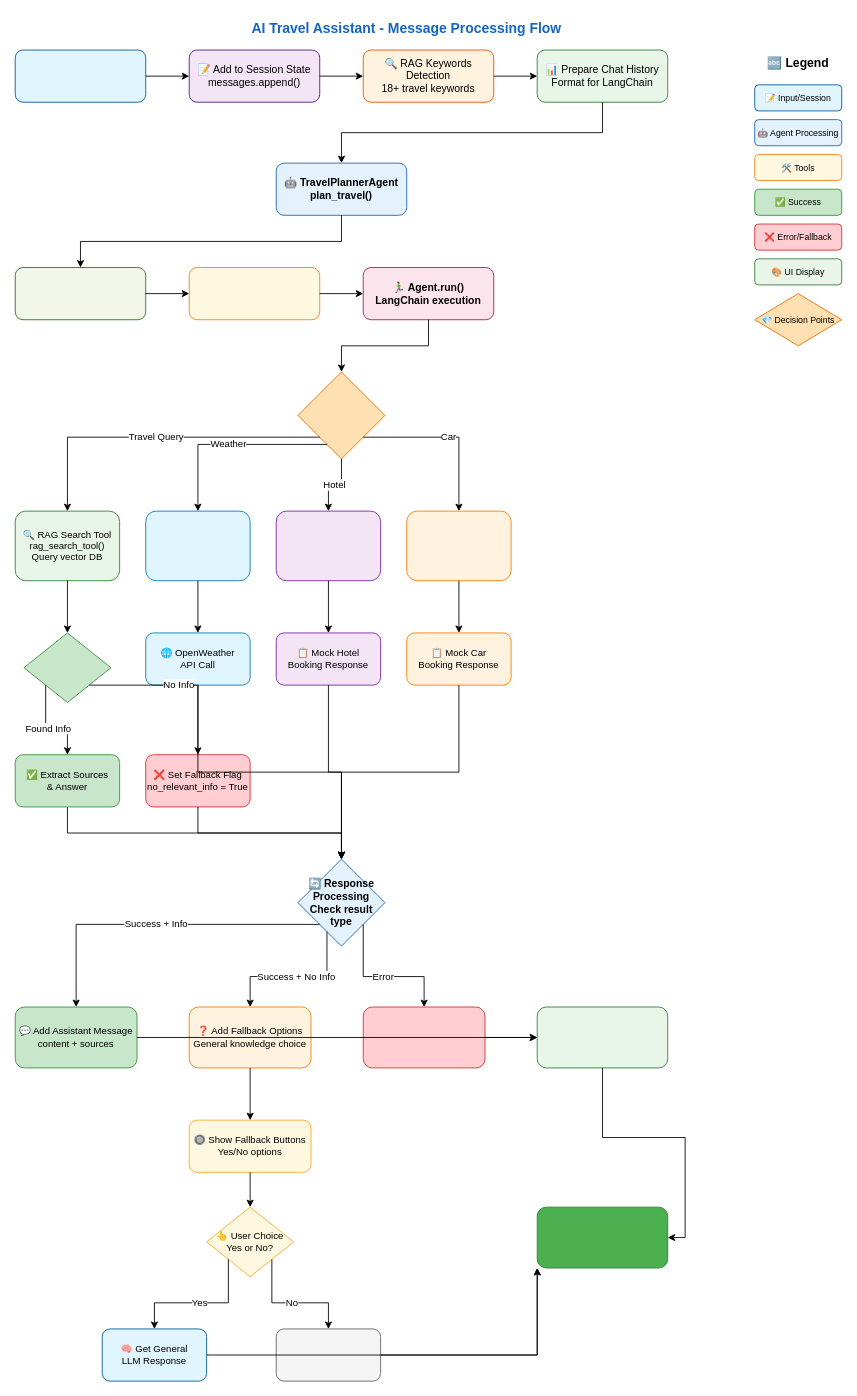
The diagram is 857 pixels wide and 1396 high, and some of its shapes have lost their labels. Each missing label, with the centre of its shape:
"✋ Skip to Next Question" belongs at point 328,1354.
"❌ Add Error Message Show error details" belongs at point 423,1037.
"🌤️ Weather Tool weather_tool() OpenWeatherMap API" belongs at point 197,545.
"🎨 Display in Chat UI Render messages" belongs at point 602,1037.
"🏨 Hotel Booking hotel_booking_tool() Mock booking system" belongs at point 328,545.
"👤 User Input st.chat_input()" belongs at point 80,75.
"📋 System Prompt Creation AI Travel Planner prompt" belongs at point 80,293.
"📚 RAG Results Found info?" belongs at point 67,667.
"🔄 st.rerun() UI Update Complete" belongs at point 602,1237.
"🔧 Tool Selection Agent decides" belongs at point 341,415.
"🚗 Car Booking car_booking_tool() Mock booking system" belongs at point 458,545.
"🛠️ Initialize Tools 4 main tools" belongs at point 254,293.
